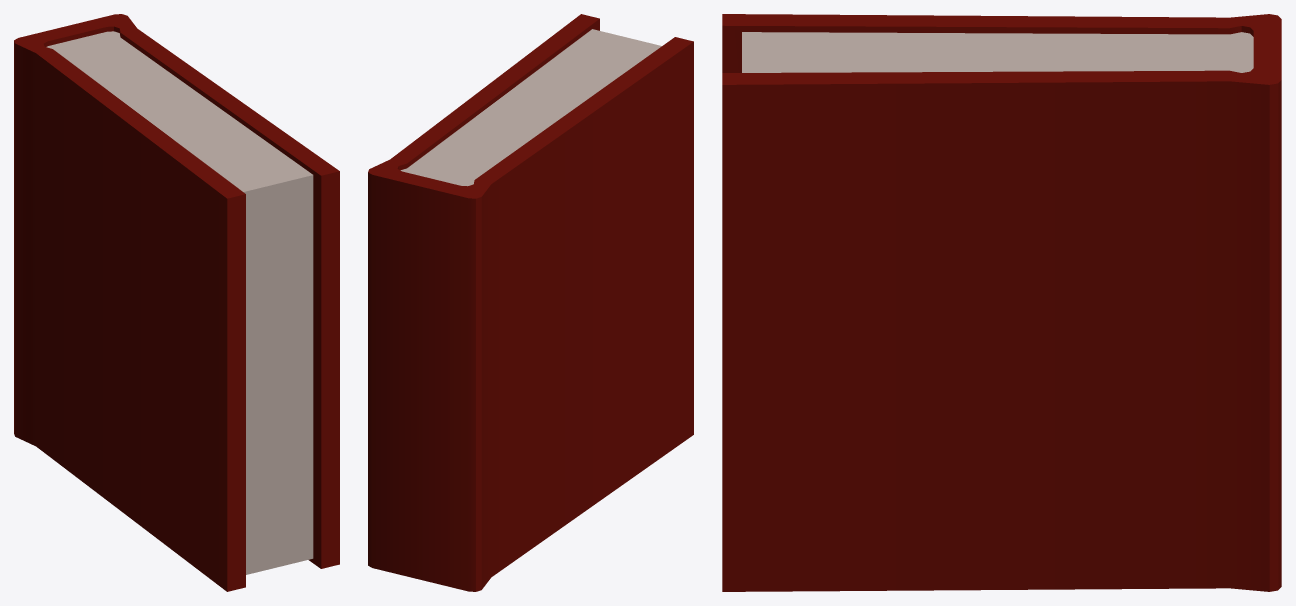
The model's file is Book.fbx.
3 renders of one model, left to right at view 1: azimuth 30°, elevation 25°; view 2: azimuth 150°, elevation 25°; view 3: azimuth 270°, elevation 25°, orthographic. The views are drawn at different scales.
Parts seen in each view (by area): view 1: Book; view 2: Book; view 3: Book.
Part boxes in pixels (bbox=[...]): Book: bbox=[14, 14, 339, 591]; Book: bbox=[368, 14, 693, 591]; Book: bbox=[722, 14, 1281, 591].
Bounding box in the file's own units: 0.15 × 0.5 × 0.5.
